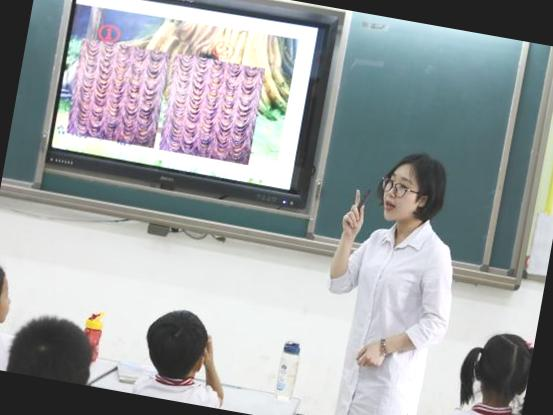no_vest: (326, 219, 465, 388)
person: (297, 129, 481, 415)
